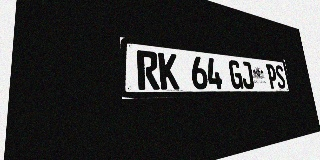4: (205, 57, 223, 89)
6: (190, 56, 209, 89)
G: (228, 60, 244, 89)
J: (240, 61, 255, 89)
K: (158, 52, 179, 90)
P: (266, 64, 278, 89)
R: (136, 50, 160, 90)
S: (274, 65, 286, 89)
